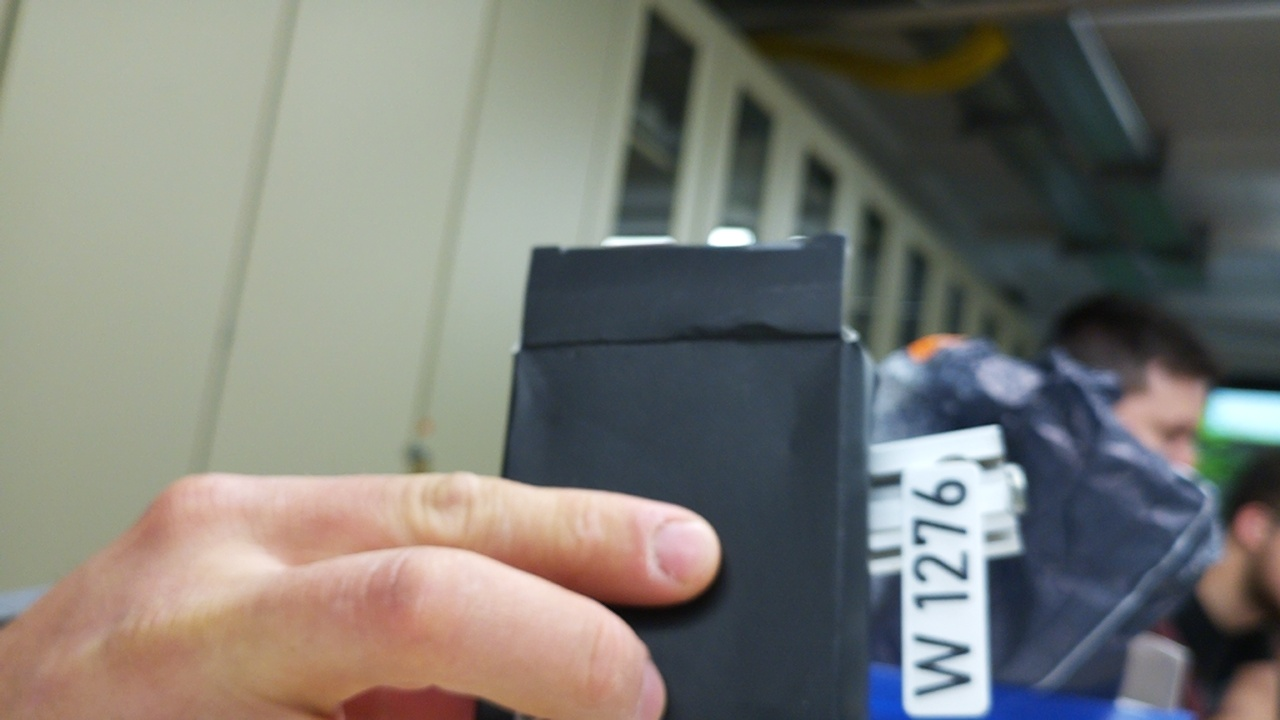license_plate: (897, 456, 990, 720)
